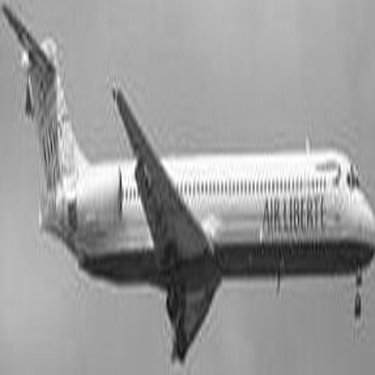airplane: (2, 6, 358, 355)
